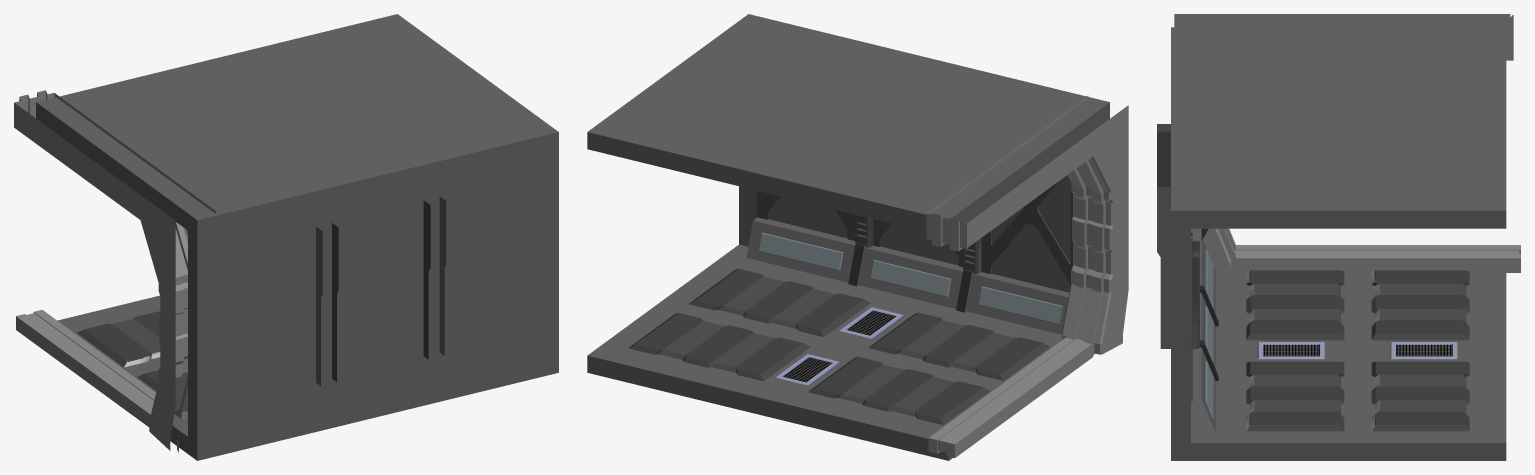
File: Hallway Standart_003.fbx
3 renders of one model, left to right at view 1: azimuth 30°, elevation 25°; view 2: azimuth 150°, elevation 25°; view 3: azimuth 270°, elevation 25°, orthographic. The views are drawn at different scales.
Visible parts, largest first — view 1: Hallway Base.004, Transition.004, Greable.004, Panel.006; view 2: Hallway Base.004, Panel.006, Transition.004, Edge.003, Greable.004, Vent.019, Vent.018; view 3: Hallway Base.004, Panel.006, Transition.004, Greable.004, Edge.003, Vent.018, Vent.019.
Boxes of the visible parts, x1,y1,x2,y2 form: Hallway Base.004: [36, 14, 558, 460]; Transition.004: [14, 90, 215, 452]; Greable.004: [316, 196, 446, 385]; Panel.006: [77, 311, 160, 391]; Hallway Base.004: [587, 14, 1109, 460]; Panel.006: [628, 268, 1050, 425]; Transition.004: [926, 95, 1128, 457]; Edge.003: [746, 217, 1069, 334]; Greable.004: [756, 181, 1072, 286]; Vent.019: [839, 307, 903, 339]; Vent.018: [775, 354, 840, 386]; Hallway Base.004: [1171, 27, 1506, 460]; Panel.006: [1246, 270, 1469, 431]; Transition.004: [1174, 14, 1520, 272]; Greable.004: [1157, 124, 1199, 401]; Edge.003: [1191, 228, 1218, 432]; Vent.018: [1390, 342, 1457, 359]; Vent.019: [1257, 342, 1324, 359].
Size of what is drawn, in the model's own units: 2322 by 1436 by 1845.
